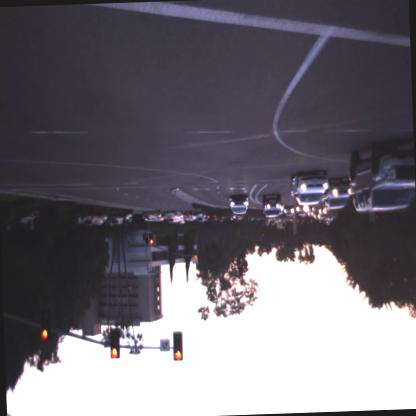trafficlight: (38, 308, 52, 342), (172, 330, 185, 364), (108, 328, 121, 360), (148, 233, 154, 246), (193, 248, 198, 260)
